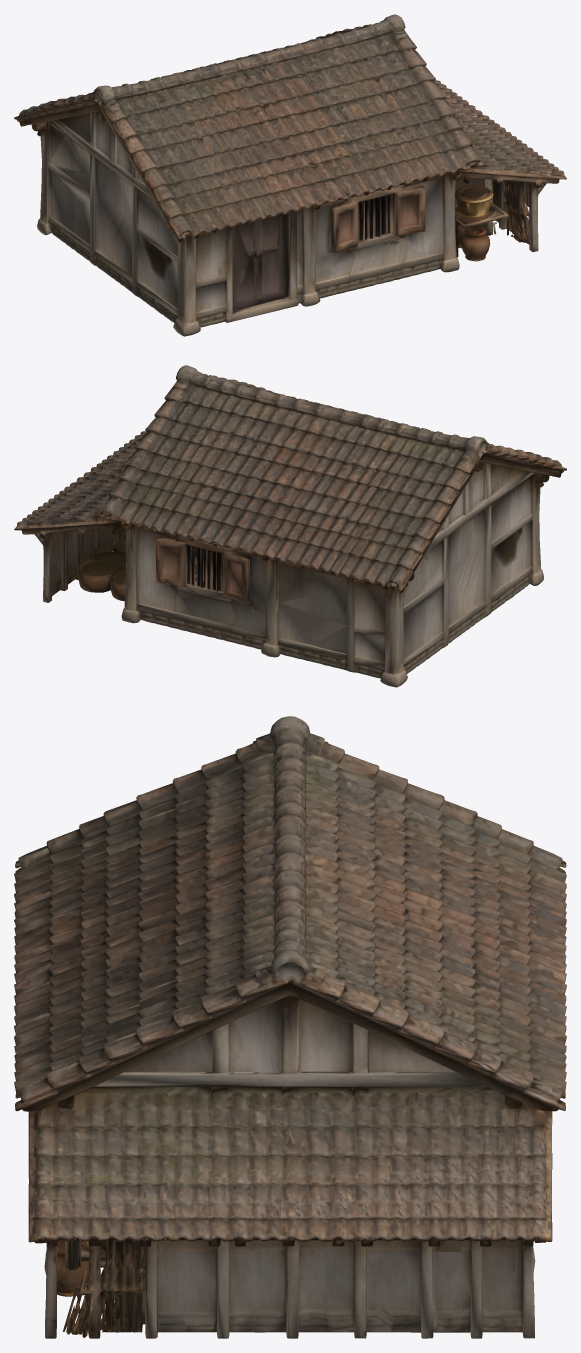
The model's file is TimberCottage.fbx.
3 views of the same model, one above another, from view 1: azimuth 30°, elevation 25°; view 2: azimuth 150°, elevation 25°; view 3: azimuth 270°, elevation 25° (orthographic). The views are drawn at different scales.
Visible parts, largest first — view 1: Mesh_0; view 2: Mesh_0; view 3: Mesh_0.
Part boxes in pixels (<box>): Mesh_0: <box>14,14,566,336</box>; Mesh_0: <box>14,365,566,687</box>; Mesh_0: <box>14,716,566,1338</box>.
Bounding box in the file's own units: 96.92 × 46.89 × 71.35.
1 material, 1 textured.
